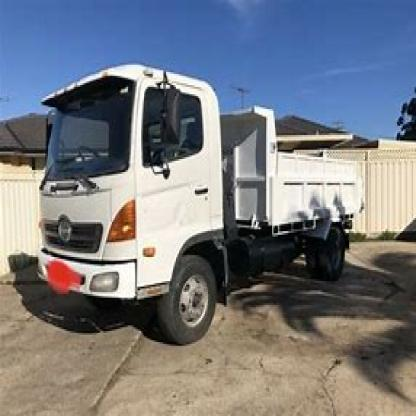dump_truck: (38, 61, 372, 346)
